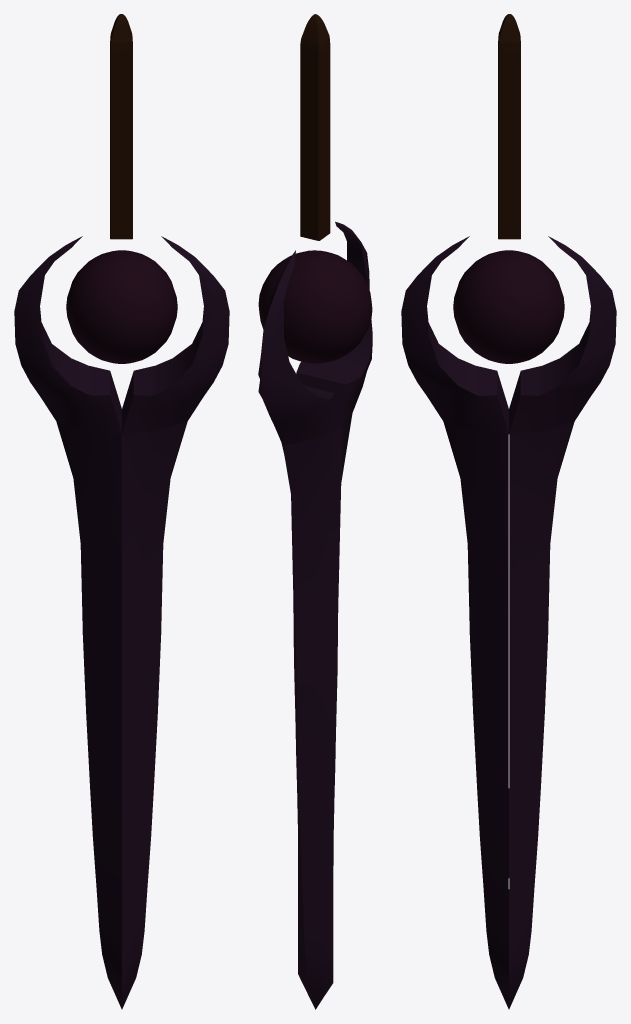
File: Shadow Sword.fbx
3 views of the same model, side by side, from view 1: azimuth 90°, elevation 25°; view 2: azimuth 150°, elevation 25°; view 3: azimuth 270°, elevation 25° (orthographic).
Parts seen in each view (by area): view 1: Plane, Sphere, Cube; view 2: Plane, Sphere, Cube; view 3: Plane, Sphere, Cube.
Part boxes in pixels (left/top/right/bottom): Plane: left=14, top=236, right=229, bottom=1009; Sphere: left=66, top=250, right=177, bottom=363; Cube: left=110, top=14, right=132, bottom=239; Plane: left=258, top=221, right=372, bottom=1009; Sphere: left=258, top=250, right=372, bottom=363; Cube: left=300, top=14, right=330, bottom=240; Plane: left=401, top=236, right=616, bottom=1009; Sphere: left=453, top=250, right=564, bottom=363; Cube: left=498, top=14, right=520, bottom=239.
Bounding box in the file's own units: 82.83 × 798 × 156.
